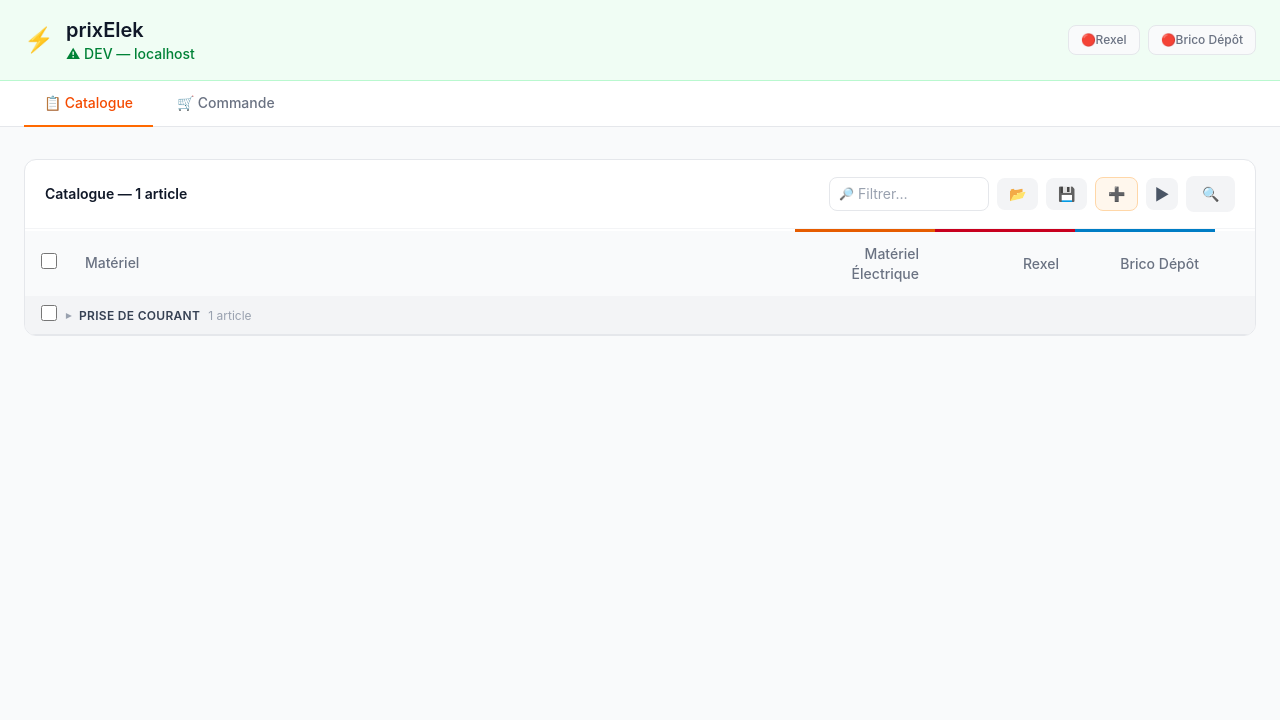
Test: App › opens and closes the Add-from-URL modal via toolbar
The width and height of the screenshot is (1280, 720).
Click the button titled "Ajouter" at {"x": 1116, "y": 194}, box [1095,177,1138,211]
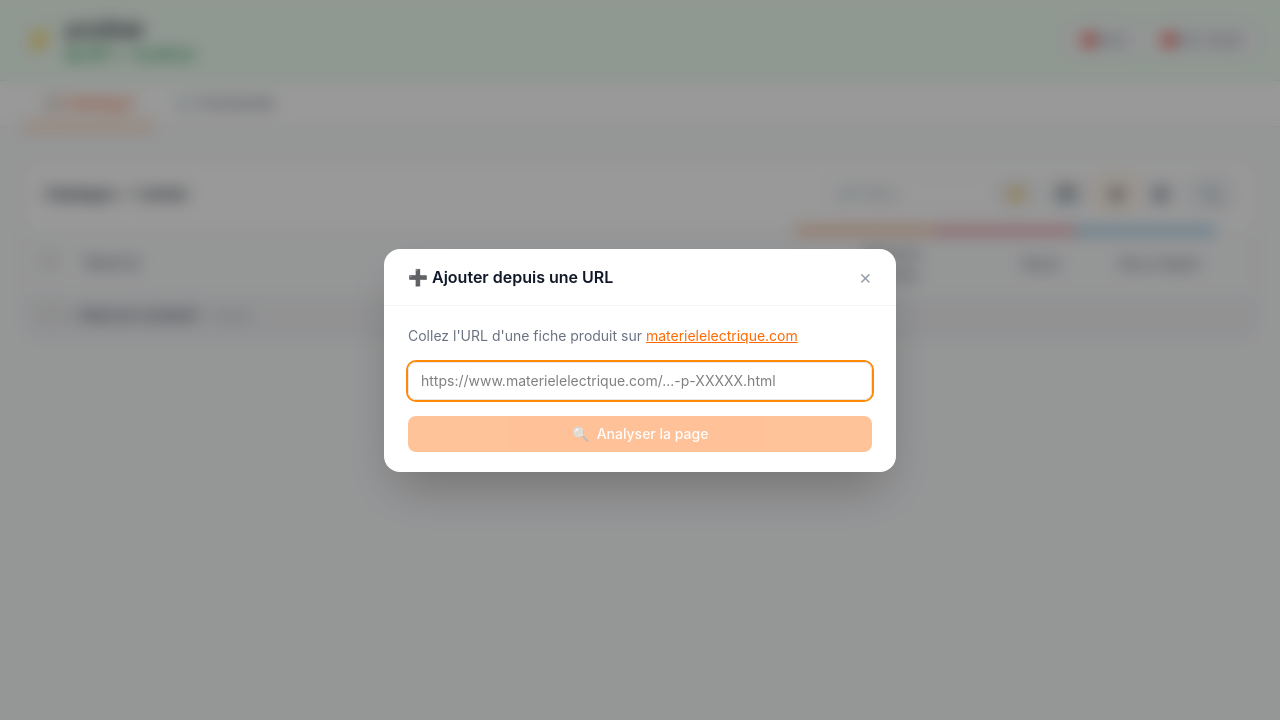
Check: the heading "➕ Ajouter depuis une URL" is shown, box [408,264,613,288]
Note: Close via the × icon button in the modal header
Click the button "×" at {"x": 865, "y": 276}, box [859,266,872,286]
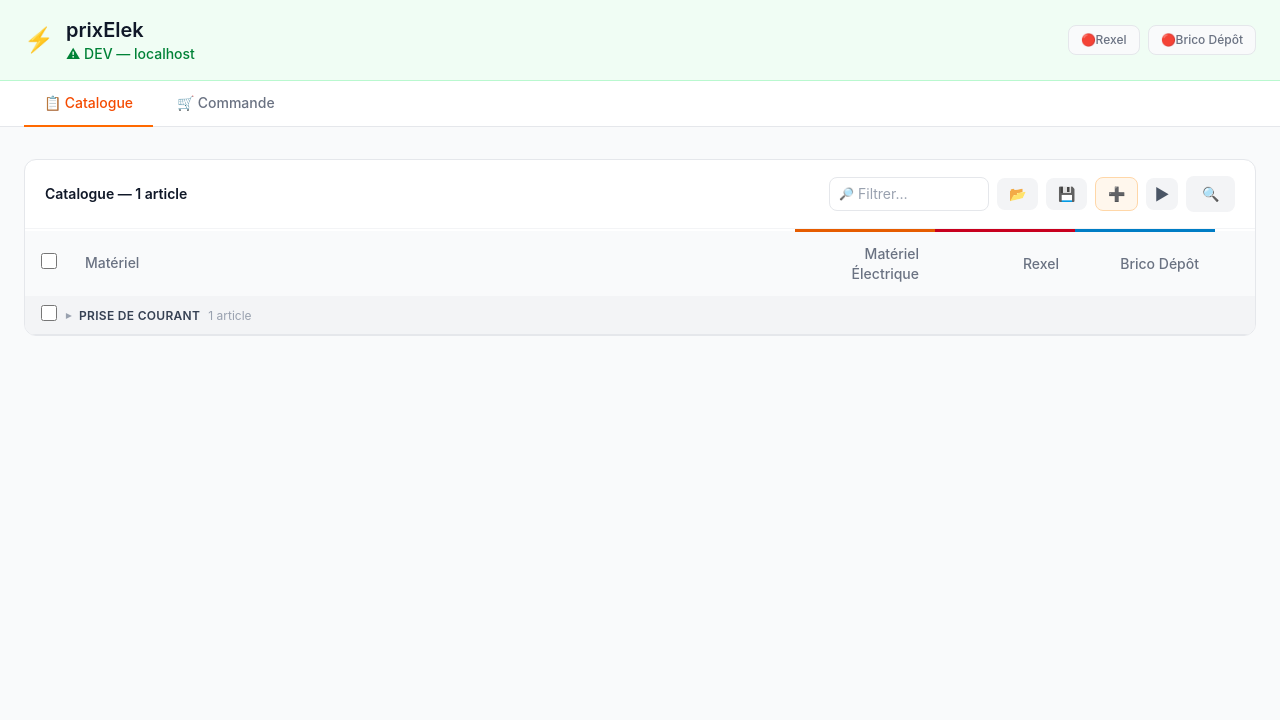
Check: the heading "Ajouter depuis une URL" is gone
